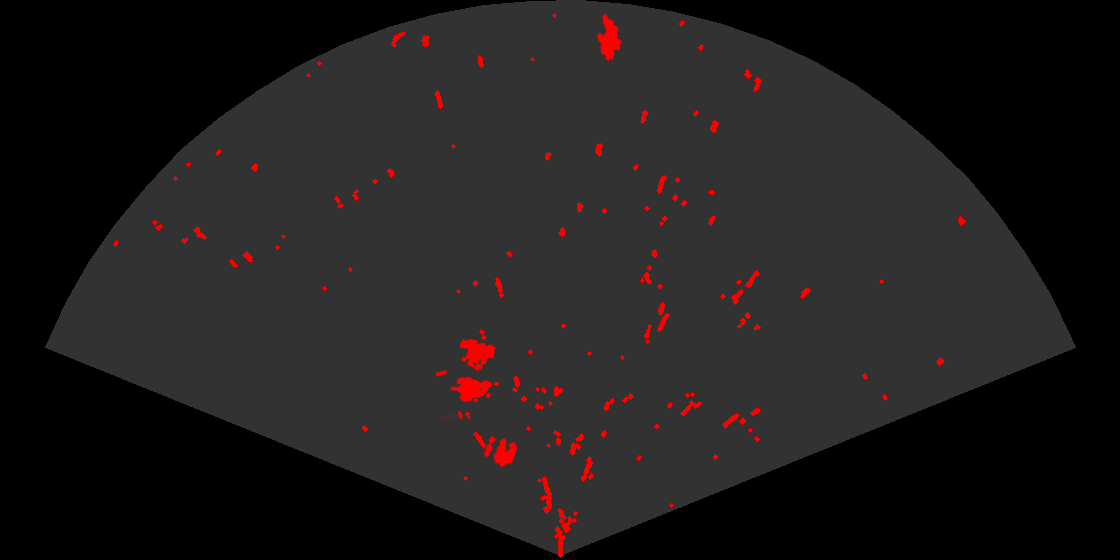AUV: (596, 12, 623, 63)
ball: (482, 434, 519, 469)
cage: (436, 337, 501, 419)
